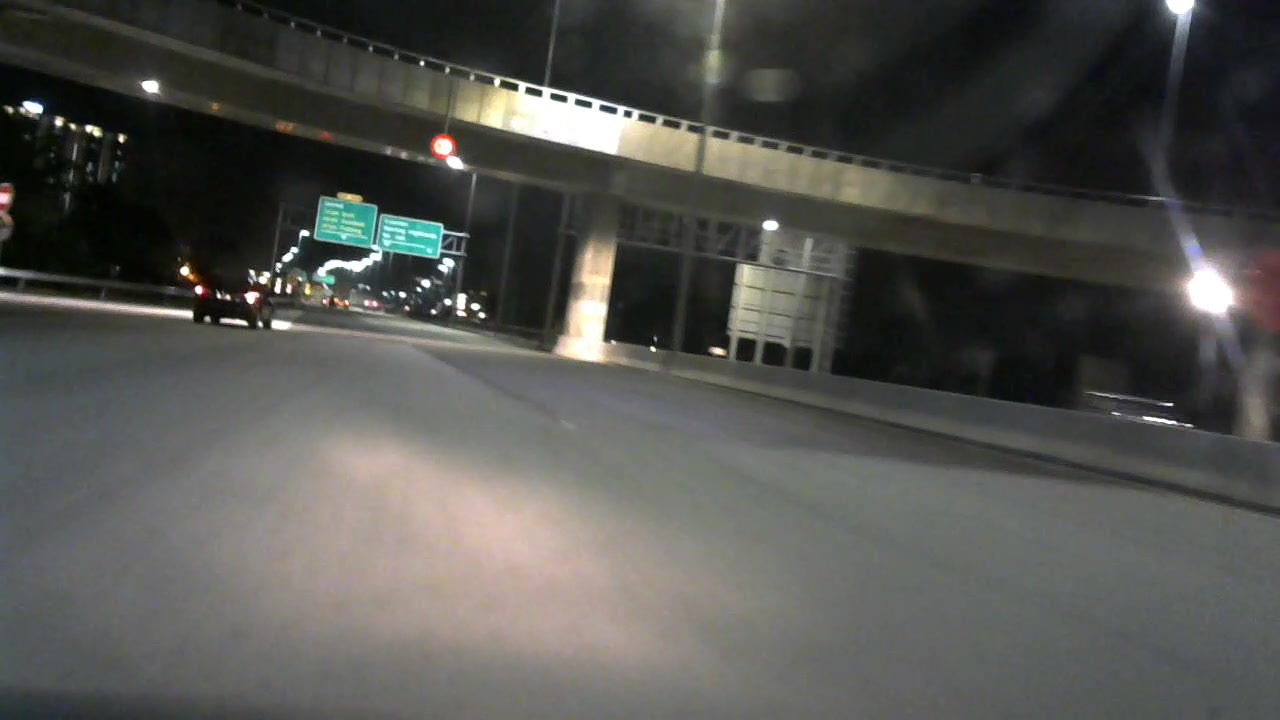Car: (183, 258, 290, 332)
